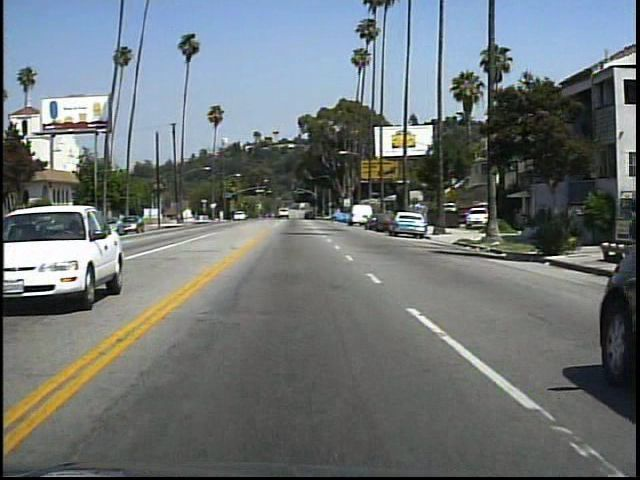person: (526, 198, 551, 253)
